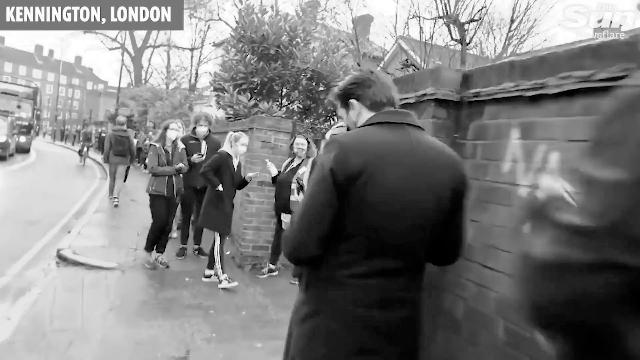berdiri: (274, 61, 482, 360), (200, 121, 252, 292), (136, 114, 178, 274)
